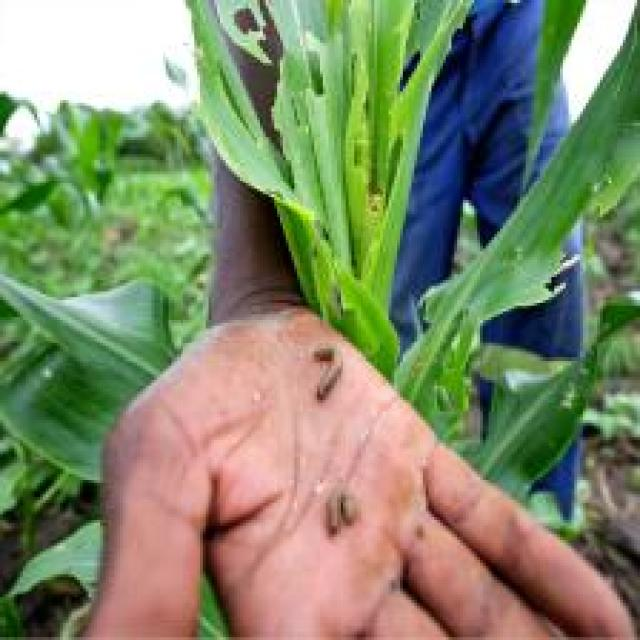Plaga: (313, 332, 350, 424), (328, 488, 363, 540)
